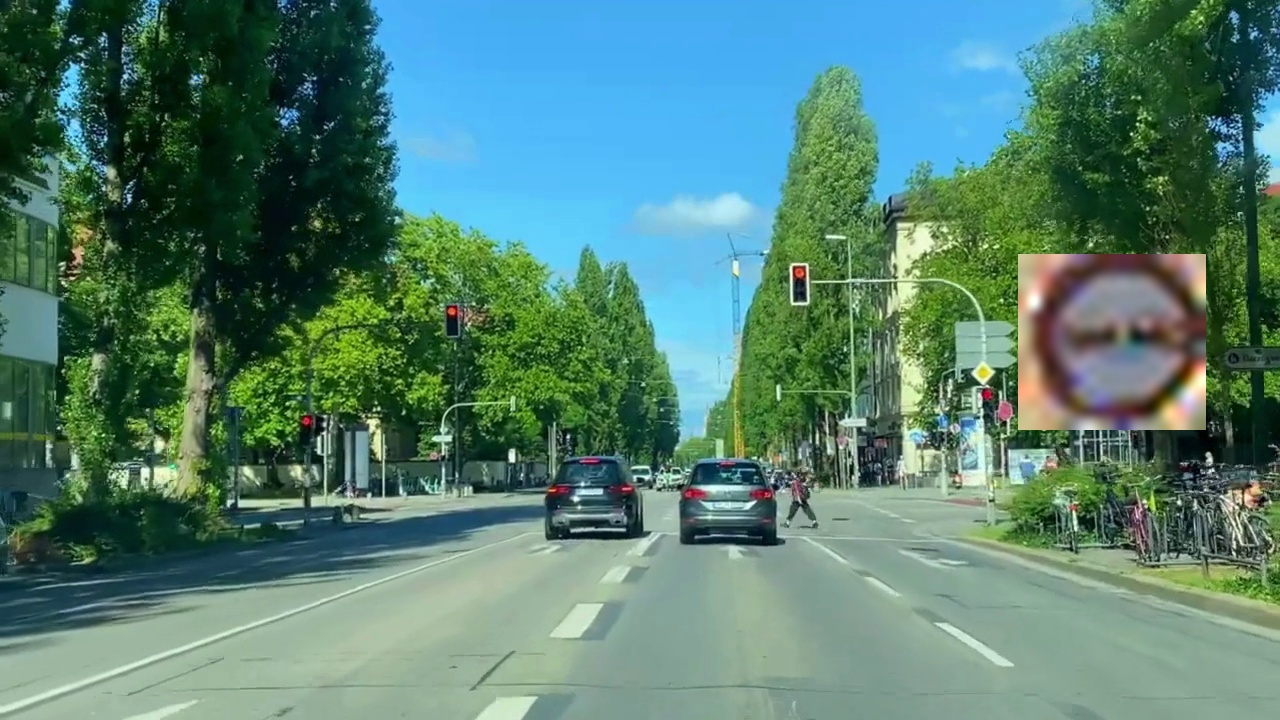No passing: (1018, 254, 1206, 430)
